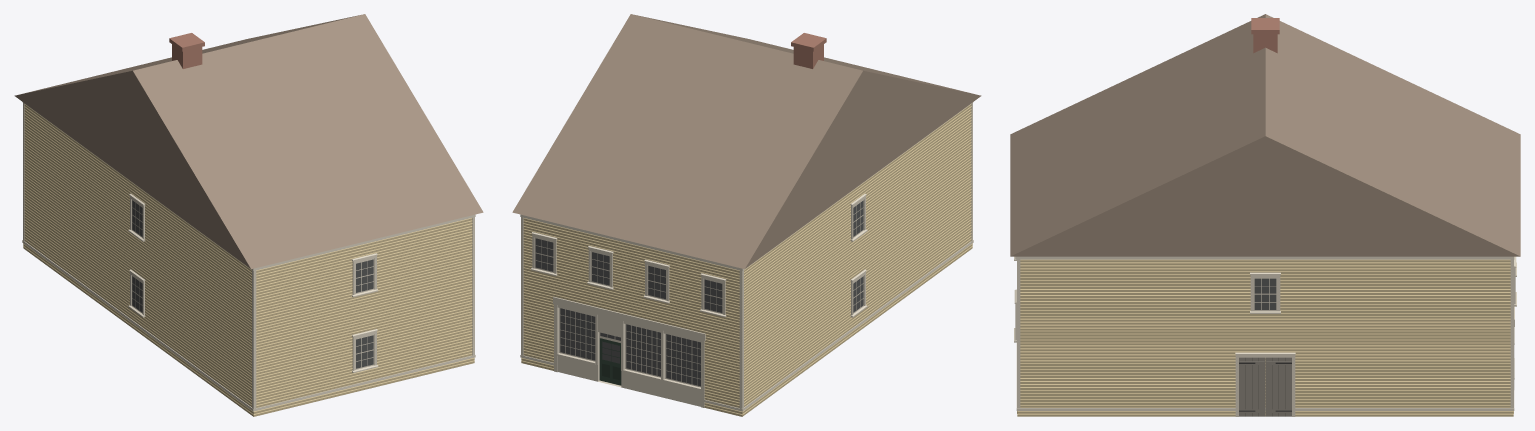
Rendered from recon_1835_canal_trade_c4_002__inferred_1835.glb.
3 renders of one model, left to right at view 1: azimuth 30°, elevation 25°; view 2: azimuth 150°, elevation 25°; view 3: azimuth 270°, elevation 25°, orthographic. The views are drawn at different scales.
Parts seen in each view (by area): view 1: recon_1835_canal_trade_c4_002__inferred_1835; view 2: recon_1835_canal_trade_c4_002__inferred_1835; view 3: recon_1835_canal_trade_c4_002__inferred_1835.
Boxes of the visible parts, x1=… form: recon_1835_canal_trade_c4_002__inferred_1835: x1=14, y1=14, x2=483, y2=416; recon_1835_canal_trade_c4_002__inferred_1835: x1=512, y1=14, x2=981, y2=416; recon_1835_canal_trade_c4_002__inferred_1835: x1=1010, y1=14, x2=1520, y2=416.
Bounding box in the file's own units: 10.06 × 11.6 × 17.77.
